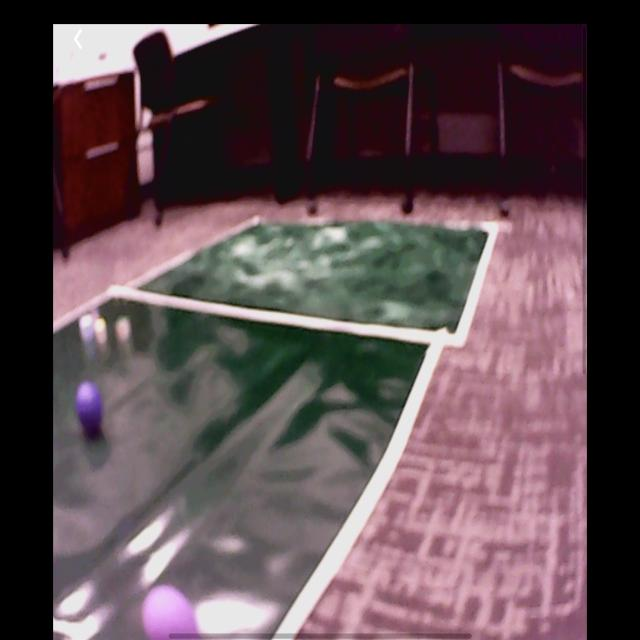ball: (141, 586, 199, 640), (76, 380, 103, 434)
